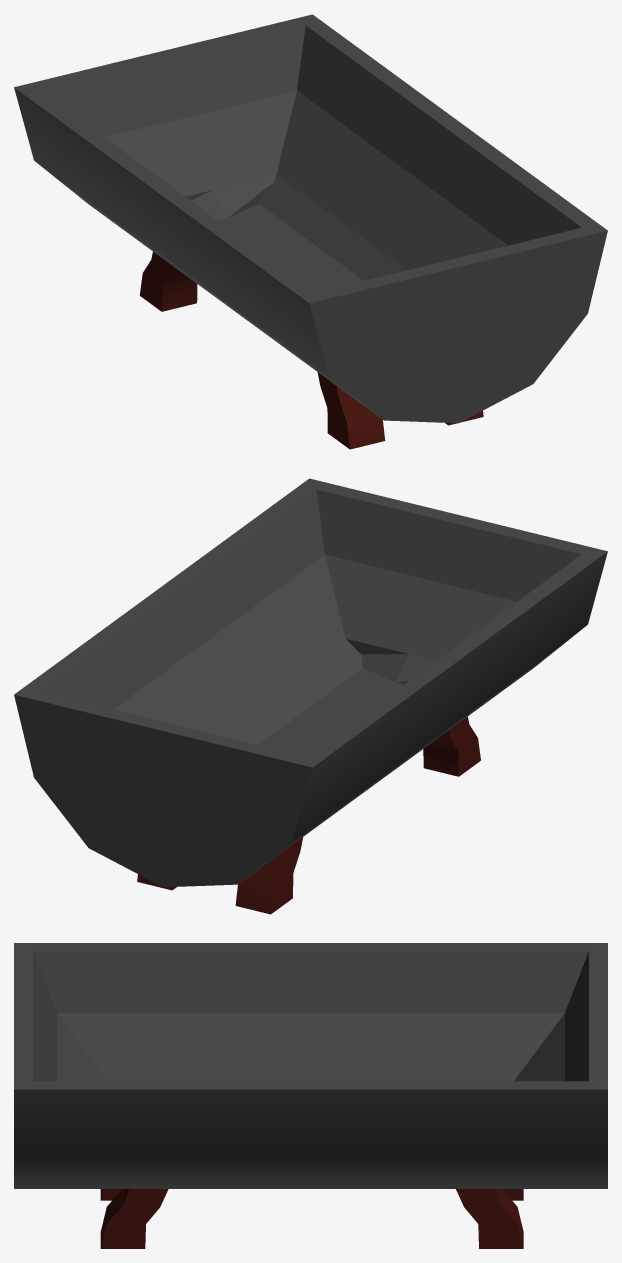
Rendered from trough.fbx.
3 views of the same model, one above another, from view 1: azimuth 30°, elevation 25°; view 2: azimuth 150°, elevation 25°; view 3: azimuth 270°, elevation 25° (orthographic).
Visible parts, largest first — view 1: Box006; view 2: Box006; view 3: Box006.
Boxes of the visible parts, box(x1,y1,x2,y2) form: Box006: box(14, 14, 607, 449); Box006: box(14, 478, 607, 914); Box006: box(14, 943, 607, 1248).
Size of the model in its own units: 431 by 274 by 739.
